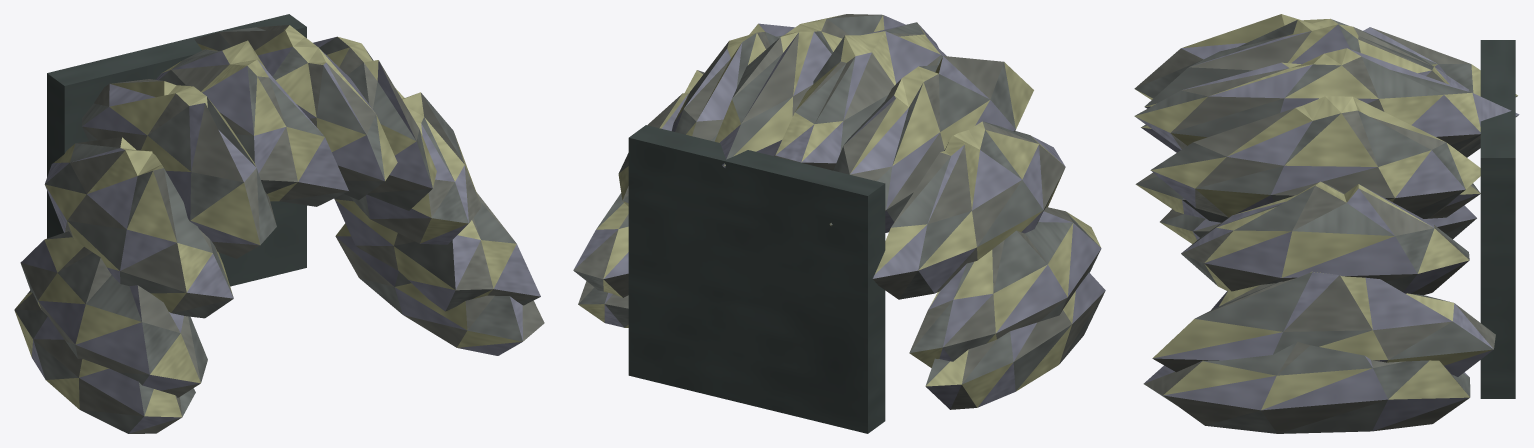
The model's file is cave_entrance_01.fbx.
The picture shows the model from 3 angles, left to right: view 1: azimuth 30°, elevation 25°; view 2: azimuth 150°, elevation 25°; view 3: azimuth 270°, elevation 25°; orthographic projection.
Visible parts, largest first — view 1: cave_entrance_01; view 2: cave_entrance_01; view 3: cave_entrance_01.
Boxes of the visible parts, x1,y1,x2,y2 form: cave_entrance_01: (14, 14, 544, 433); cave_entrance_01: (573, 14, 1105, 433); cave_entrance_01: (1134, 14, 1519, 433).
Size of the model in its own units: 516 by 356 by 400.
1 material, 1 textured.
